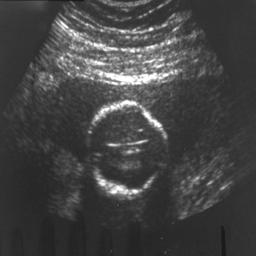abnormal: (84, 96, 174, 202)
